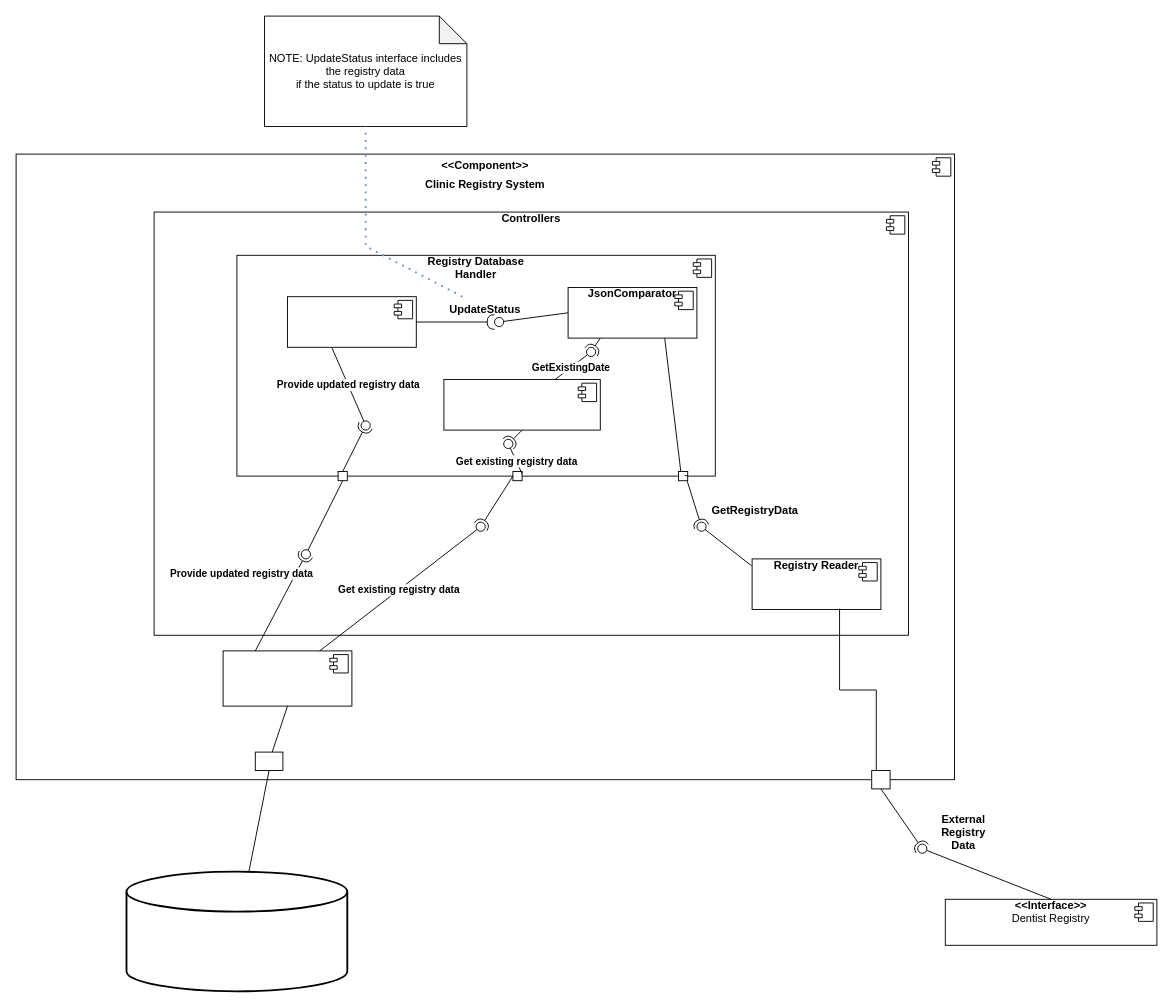
Some shapes in this 1173 by 1008 pixel diagram are drawn without their labels. Here are the shapes that lost their labels. From the top down, the centre of each, then its label:
At (x=351, y=321): "DBUpdater".
At (x=521, y=404): "DbCollectionRetreiver".
At (x=287, y=678): "Mongoose".
At (x=236, y=931): "MongoDB".
